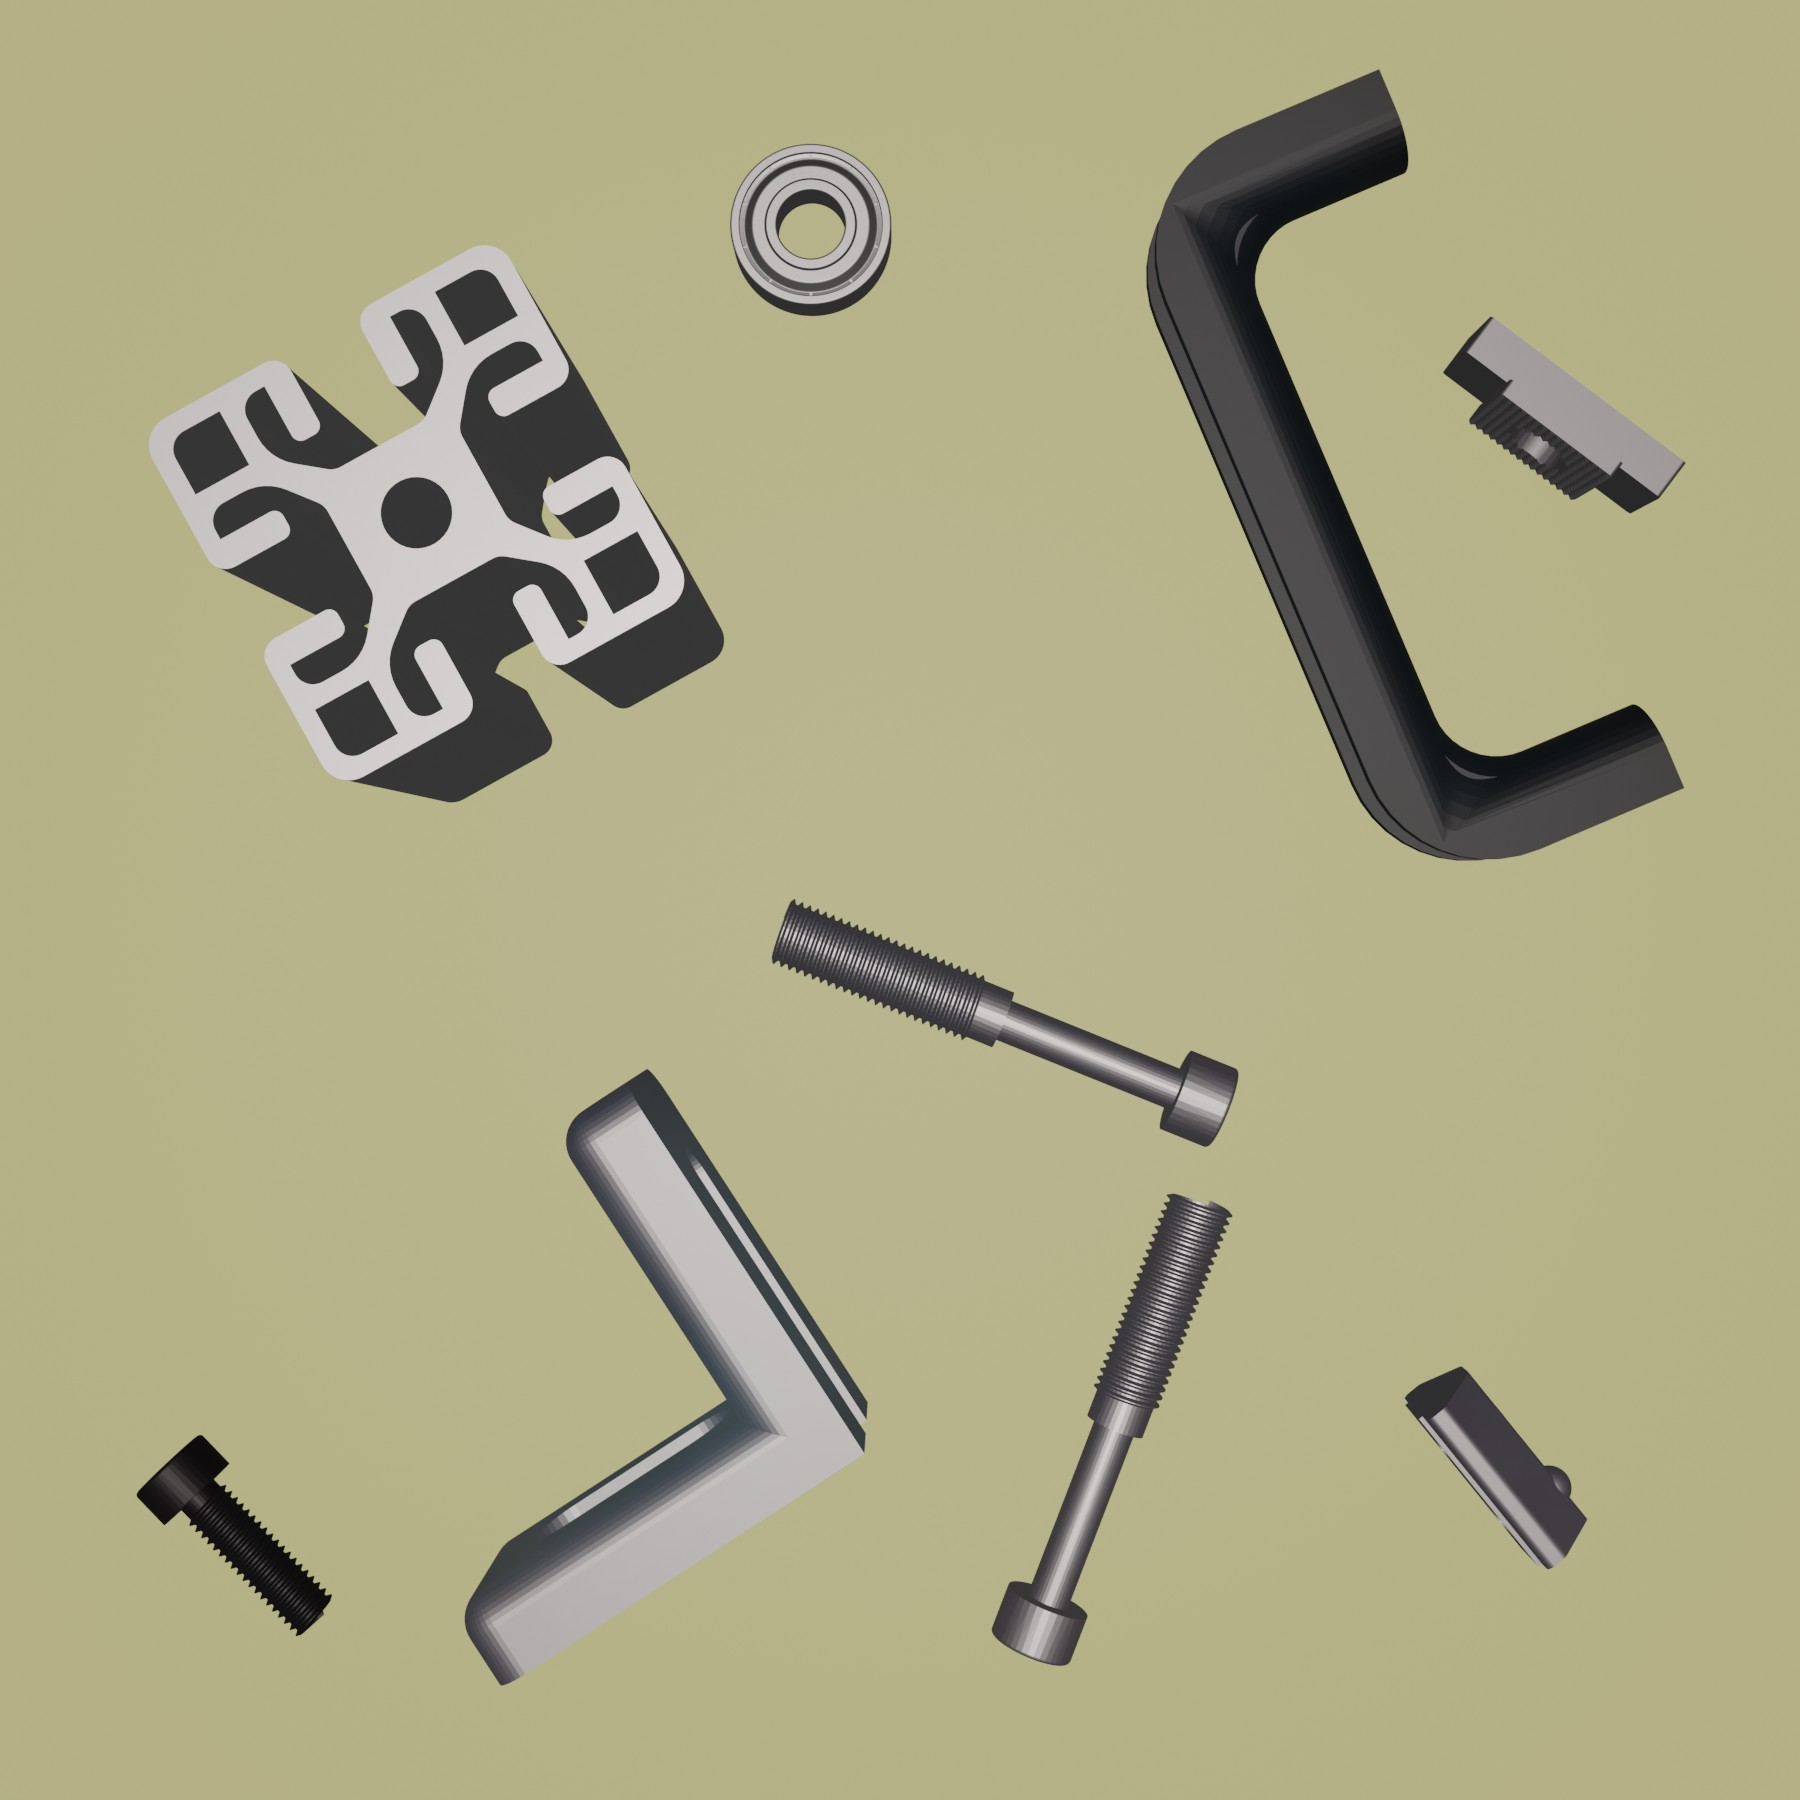Aluminium Extension: (147, 242, 725, 804)
Ball Bearing: (727, 138, 893, 321)
Multiwinkel: (462, 1063, 870, 1688)
Pull Handle: (1142, 69, 1686, 864)
Shoulder Socket Head Cap Screw: (765, 897, 1240, 1152), (991, 1188, 1235, 1670)
Socket Head Cap Screw: (134, 1427, 340, 1642)
T Nut Square: (1442, 312, 1690, 518)
T Spring Nut: (1401, 1363, 1589, 1574)
